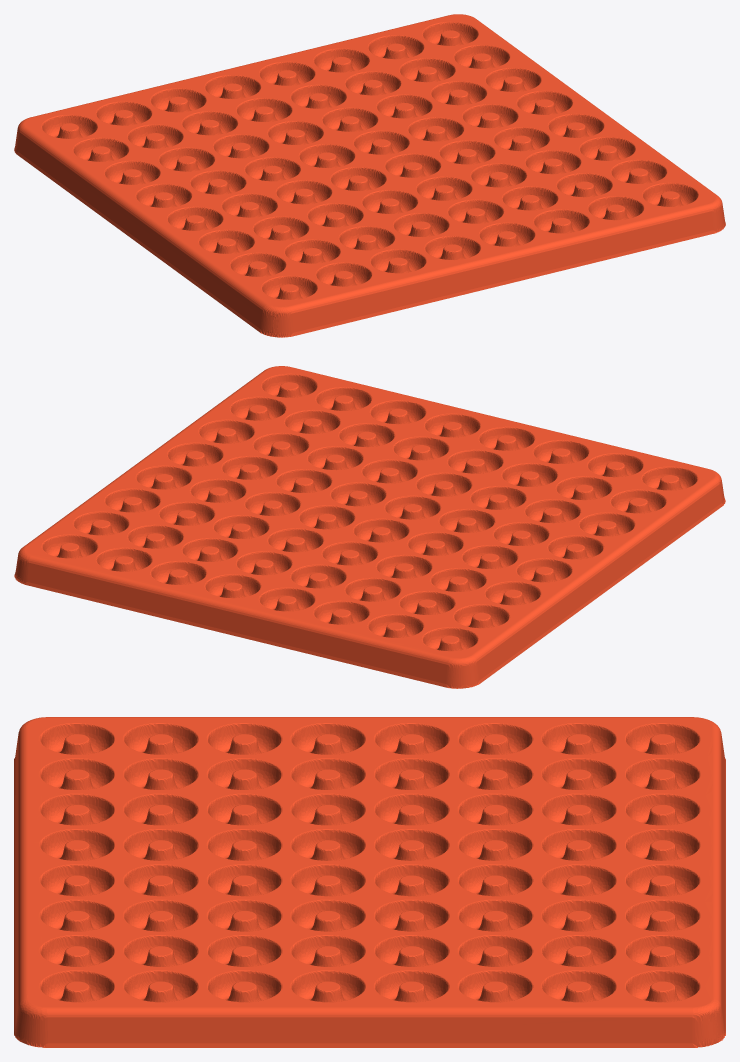
File: mold.glb
3 renders of one model, top to bottom at view 1: azimuth 30°, elevation 25°; view 2: azimuth 150°, elevation 25°; view 3: azimuth 270°, elevation 25°, orthographic. The views are drawn at different scales.
Visible parts, largest first — view 1: geometry_0; view 2: geometry_0; view 3: geometry_0.
Boxes of the visible parts, x1,y1,x2,y2 form: geometry_0: (14,14,725,337); geometry_0: (14,366,725,688); geometry_0: (14,717,725,1047).
Bounding box in the file's own units: 0.1886 × 0.0102 × 0.1886.
